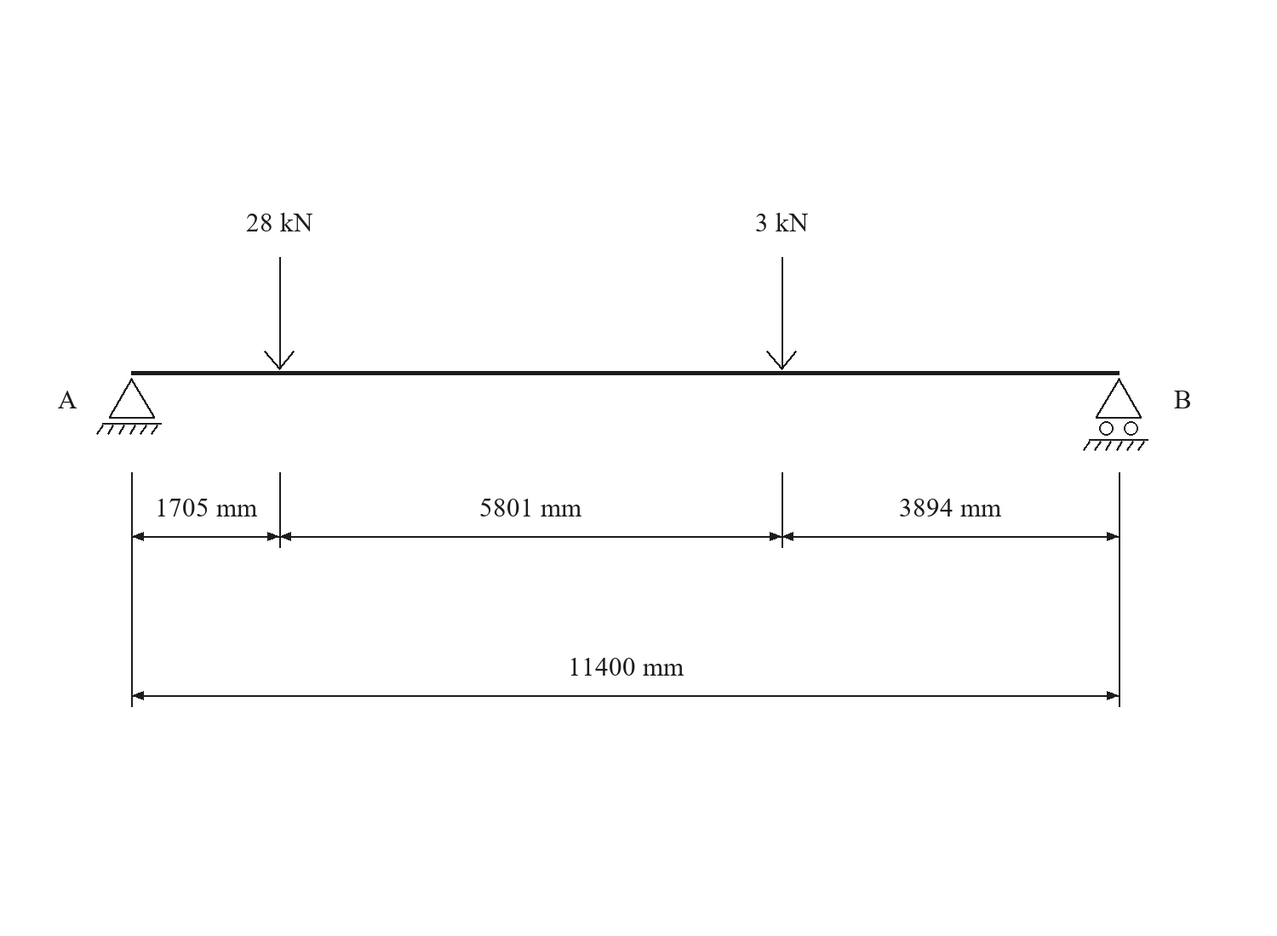pin_support: (96, 378, 162, 435)
point_load: (264, 257, 295, 370), (766, 257, 797, 370)
roller_support: (1083, 378, 1148, 451)
